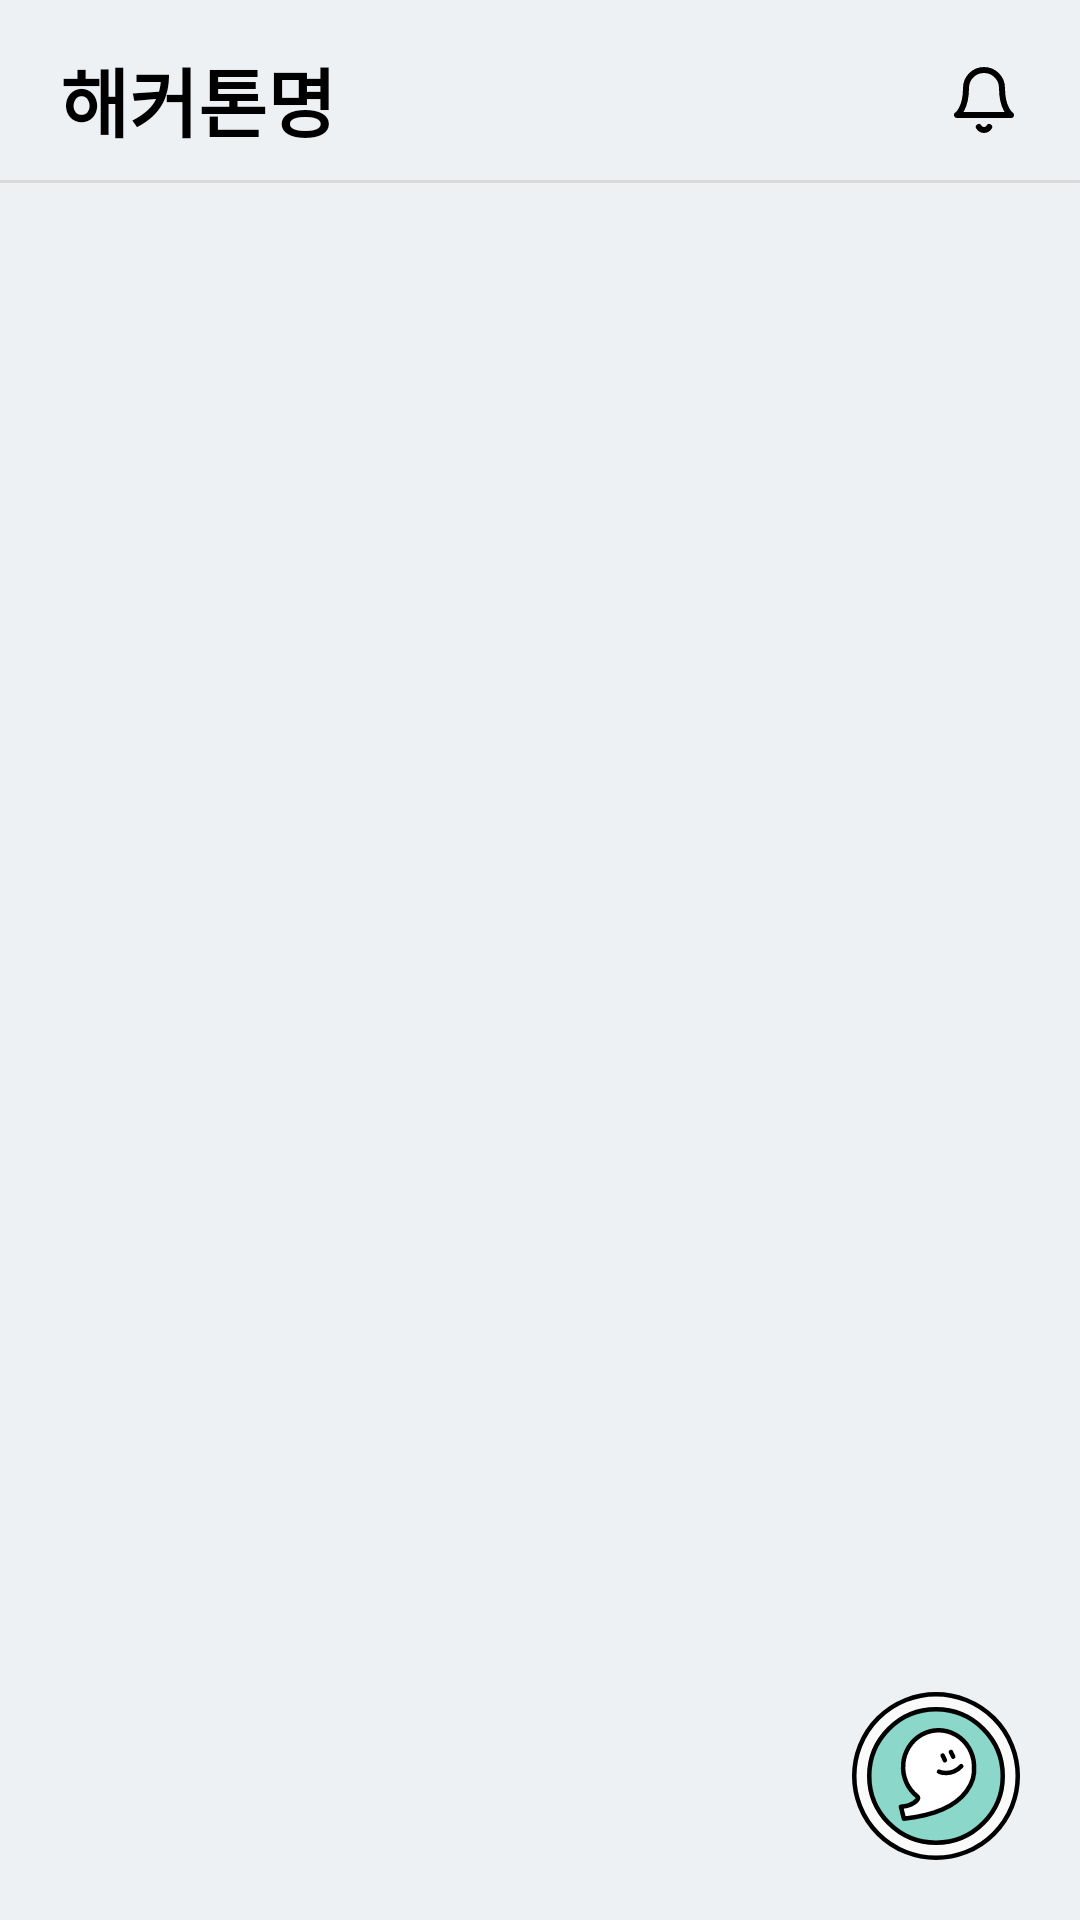

Icons on this 1080w x 1920h Android screen, each with its box as box=[x1, y1, x2, y2]:
eventpage home bell: box=[954, 67, 1014, 133]
